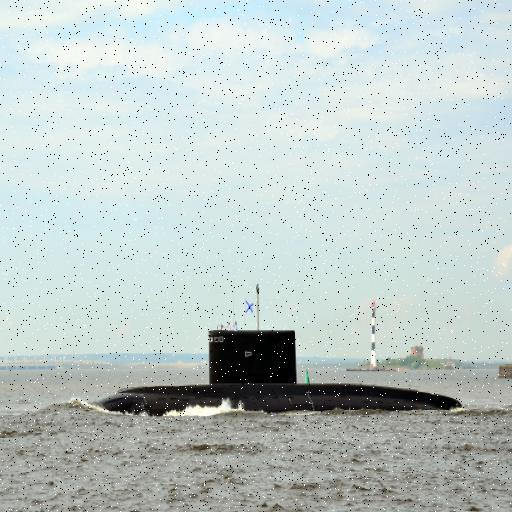submarine: (95, 335, 464, 409)
